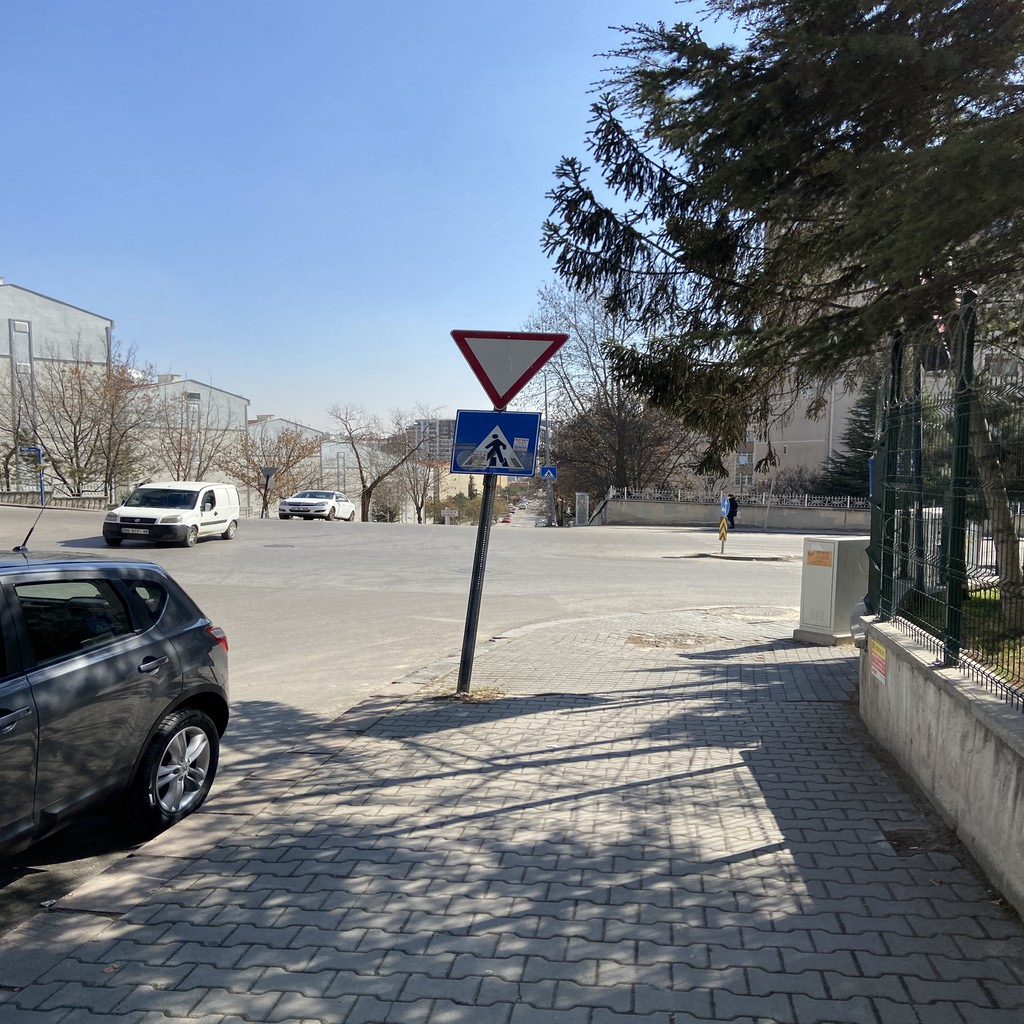Yaya Gecidi: (456, 412, 538, 476)
Yol Ver: (456, 325, 572, 406)
